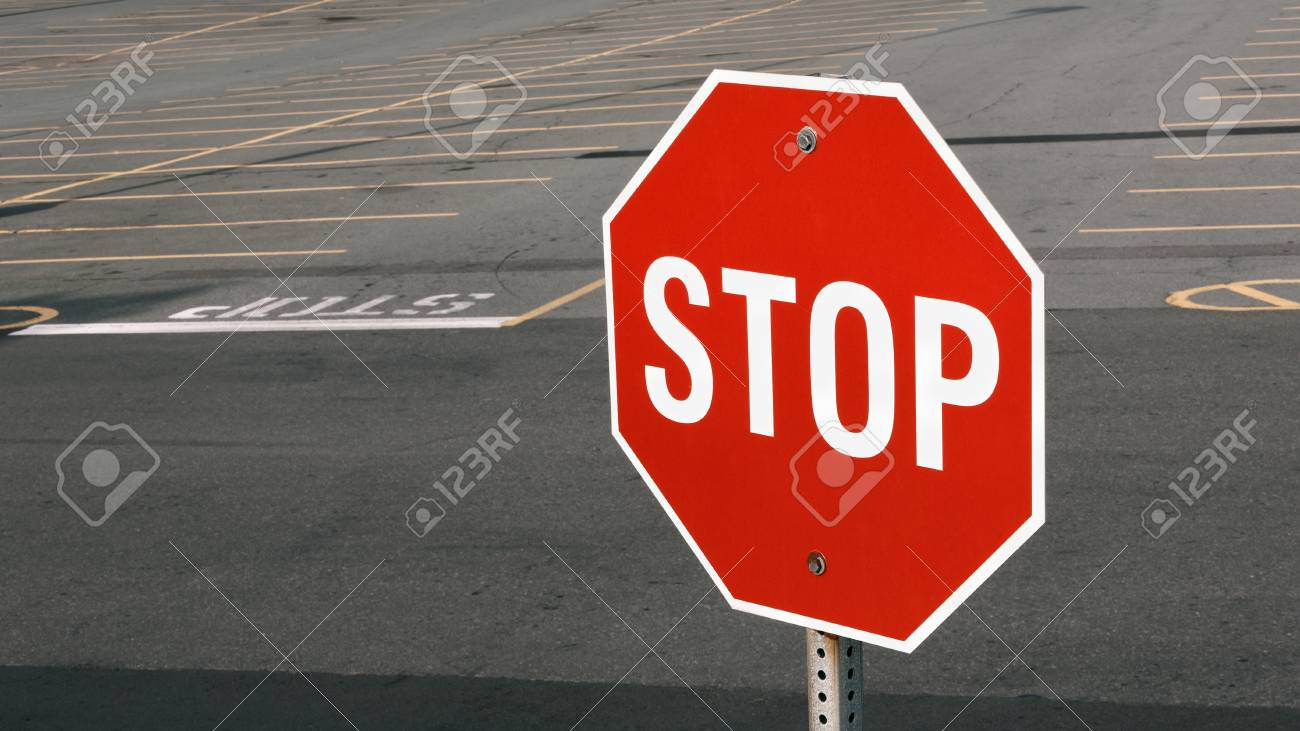stopsign: (604, 69, 1037, 652)
